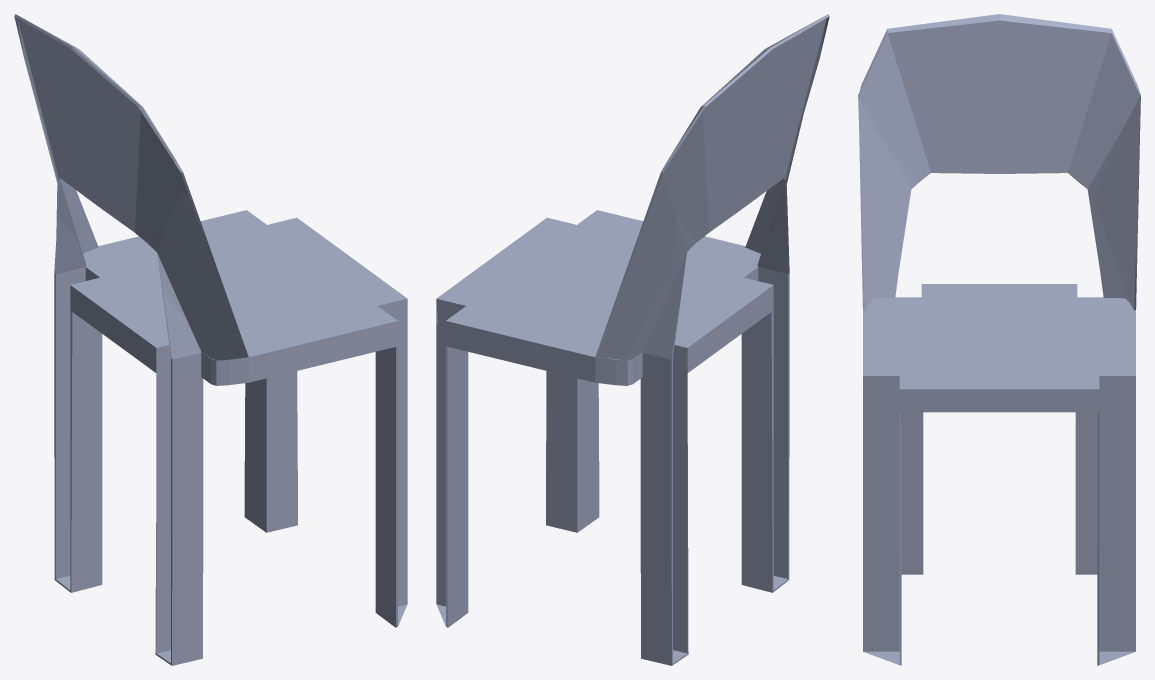
Rendered from Plastic_Chair.fbx.
3 views of the same model, side by side, from view 1: azimuth 30°, elevation 25°; view 2: azimuth 150°, elevation 25°; view 3: azimuth 270°, elevation 25° (orthographic). The views are drawn at different scales.
Visible parts, largest first — view 1: Plastic chair; view 2: Plastic chair; view 3: Plastic chair.
Boxes of the visible parts, box(x1,y1,x2,y2) form: Plastic chair: box(14, 14, 407, 665); Plastic chair: box(436, 14, 829, 665); Plastic chair: box(858, 14, 1140, 665).
Bounding box in the file's own units: 235 × 469 × 227.
